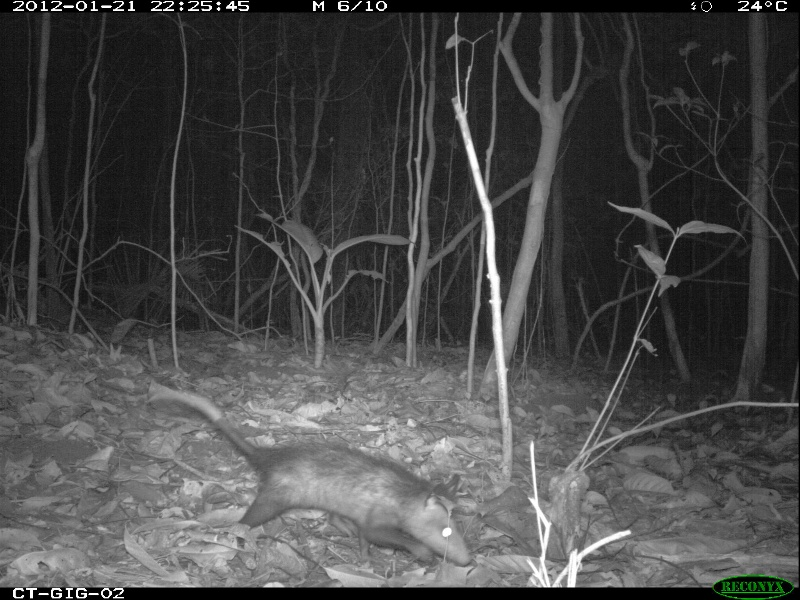opossum: (141, 376, 479, 572)
